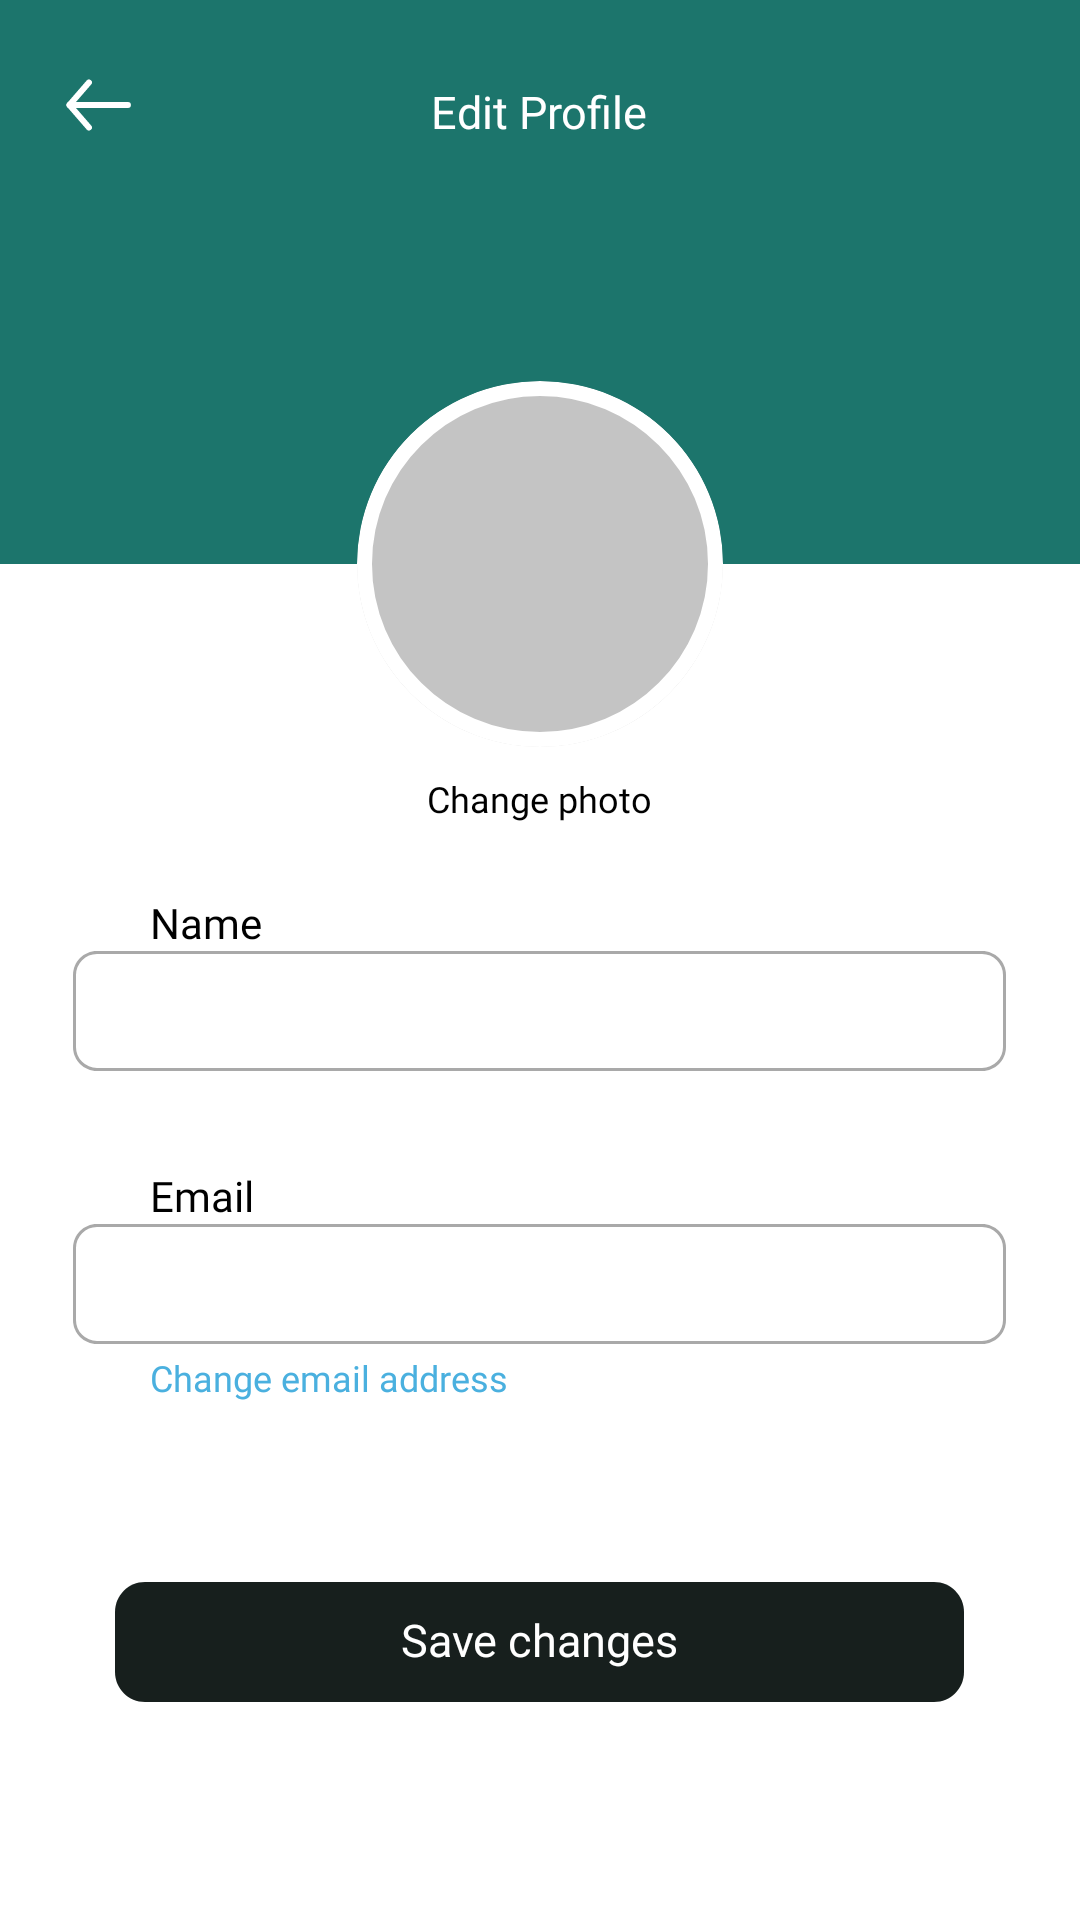

Named icons in this screenshot (1080*1920) and their centers, [x,y]:
volverperfil: [98,105]
